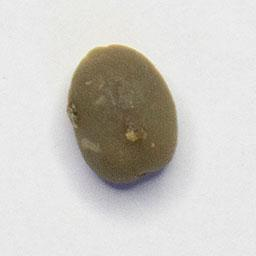premium: (64, 41, 181, 189)
